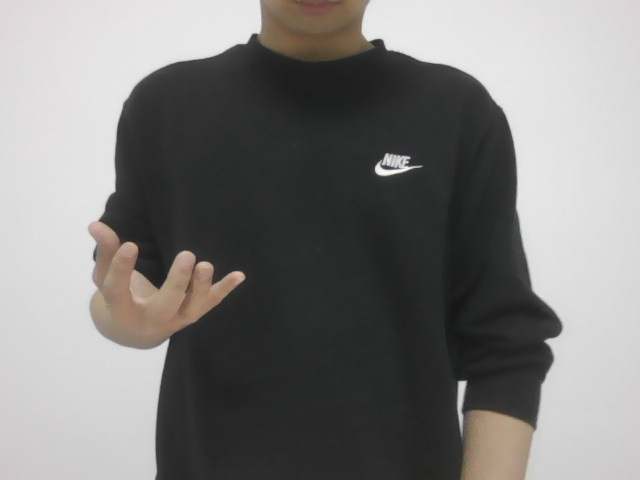flavor: (56, 209, 267, 346)
